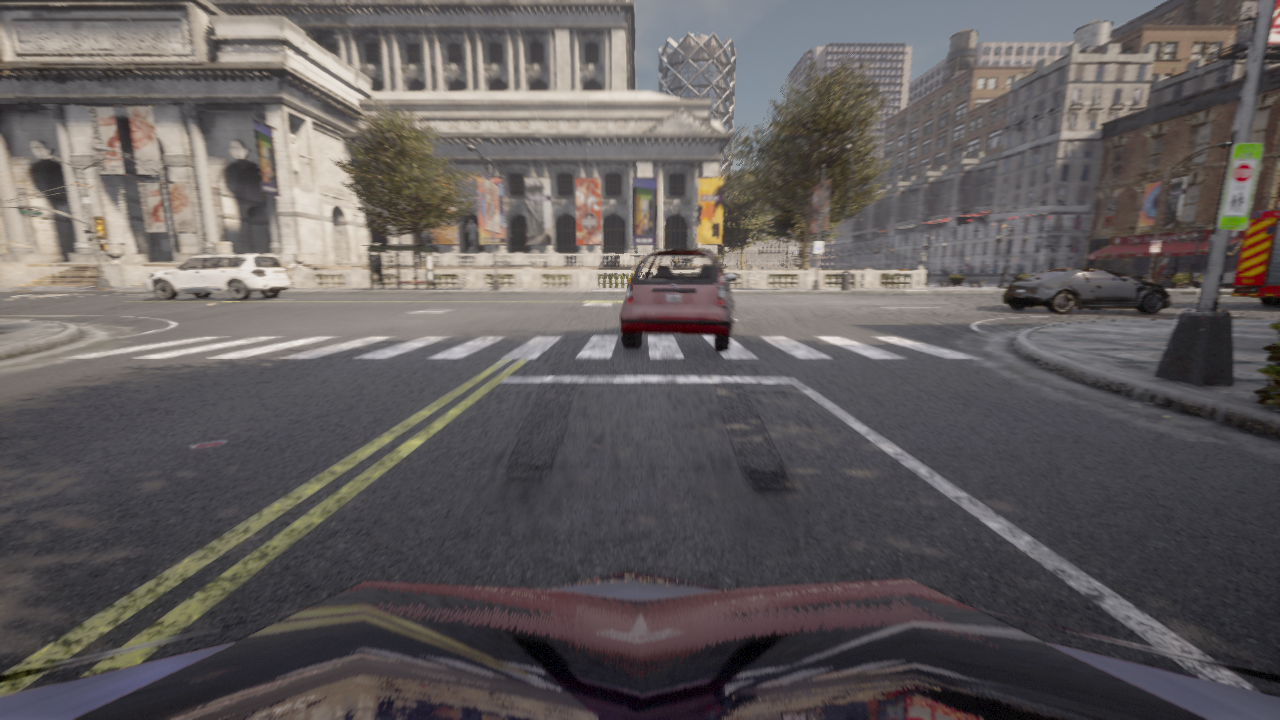cyclist: (0, 569, 1279, 719), (620, 249, 737, 350), (1003, 268, 1170, 313), (145, 254, 290, 300), (1231, 206, 1279, 306)
